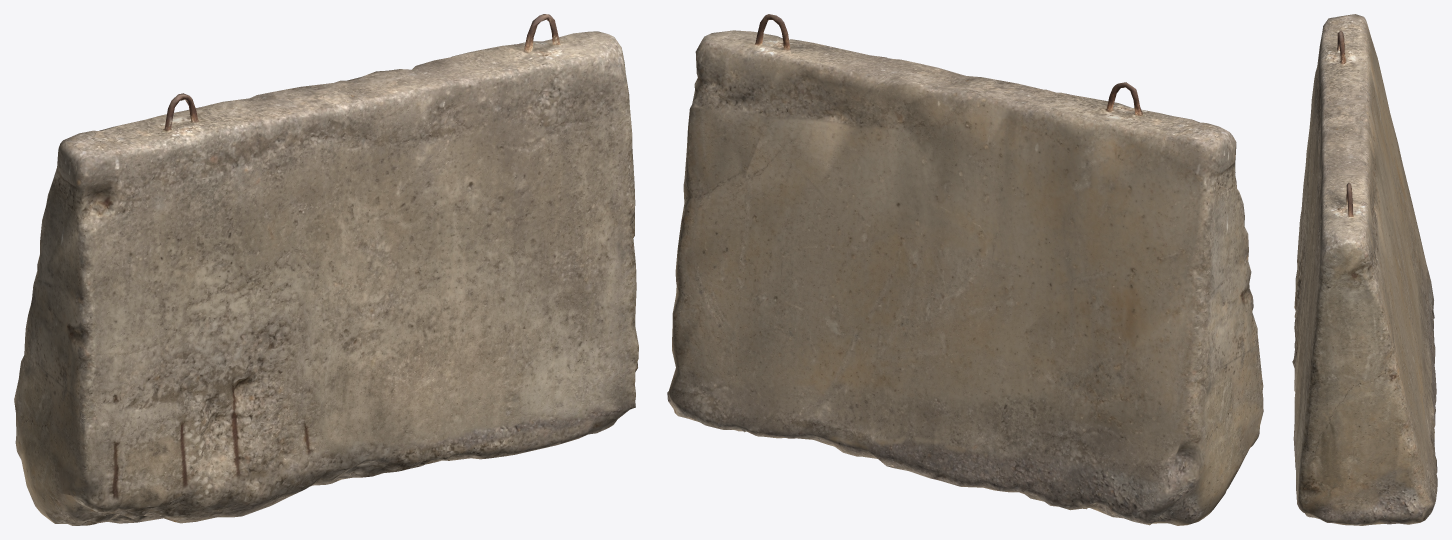
File: concrete_road_barrier_02_web.gltf
The picture shows the model from 3 angles, left to right: view 1: azimuth 30°, elevation 25°; view 2: azimuth 150°, elevation 25°; view 3: azimuth 270°, elevation 25°; orthographic projection. The views are drawn at different scales.
Visible parts, largest first — view 1: concrete_road_barrier_02; view 2: concrete_road_barrier_02; view 3: concrete_road_barrier_02.
Part boxes in pixels (x1,y1,x2,y2): concrete_road_barrier_02: [14, 14, 638, 525]; concrete_road_barrier_02: [667, 14, 1263, 525]; concrete_road_barrier_02: [1292, 14, 1437, 525].
Bounding box in the file's own units: 1.56 × 1.11 × 0.4421.
Materials: 1 (1 with a texture image).
